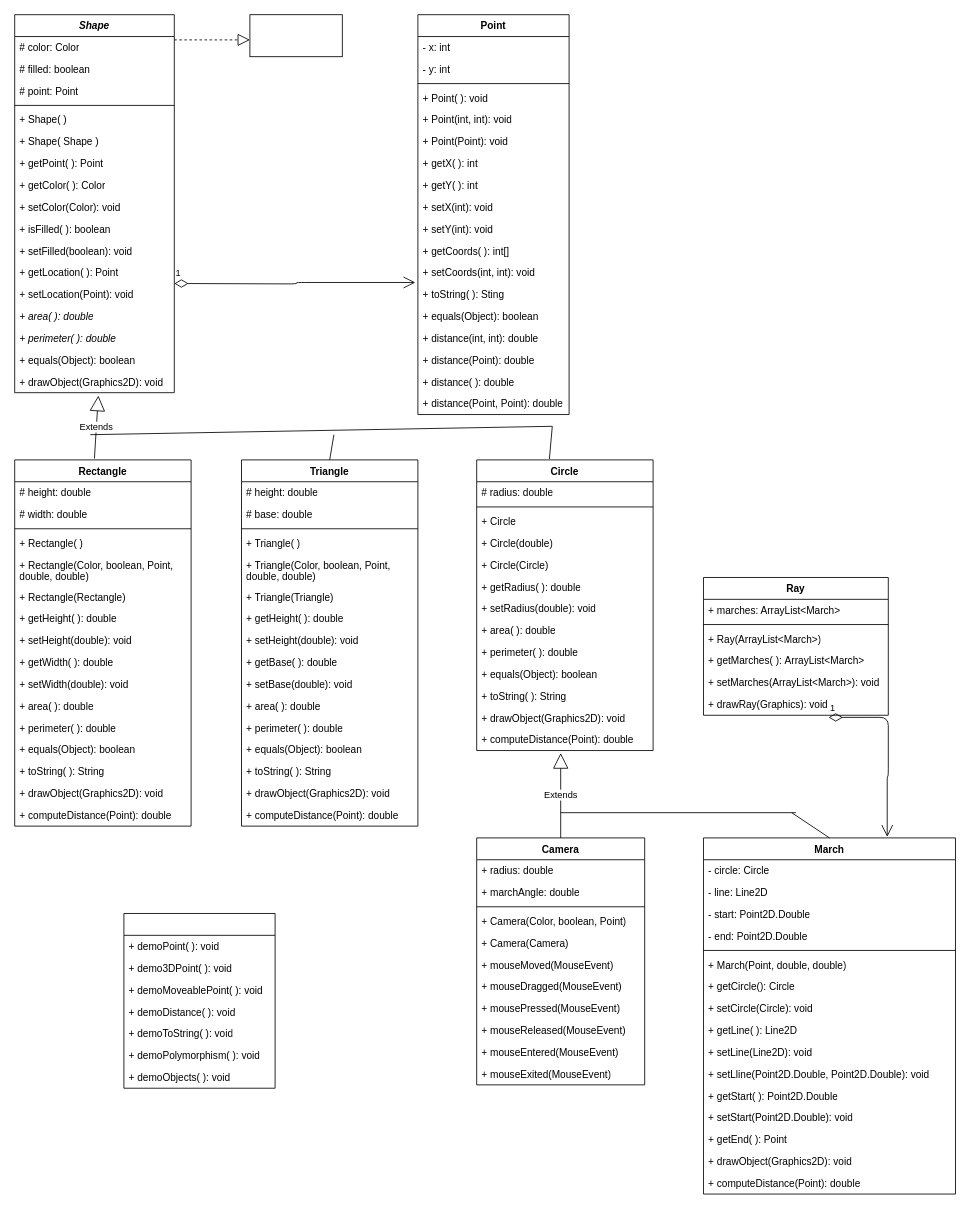
Some shapes in this 970 by 1211 pixel diagram are drawn without their labels. Each missing label, with the box of its shape:
Driver: (123, 913, 275, 1088)
«interface» Drawable: (249, 14, 342, 57)
